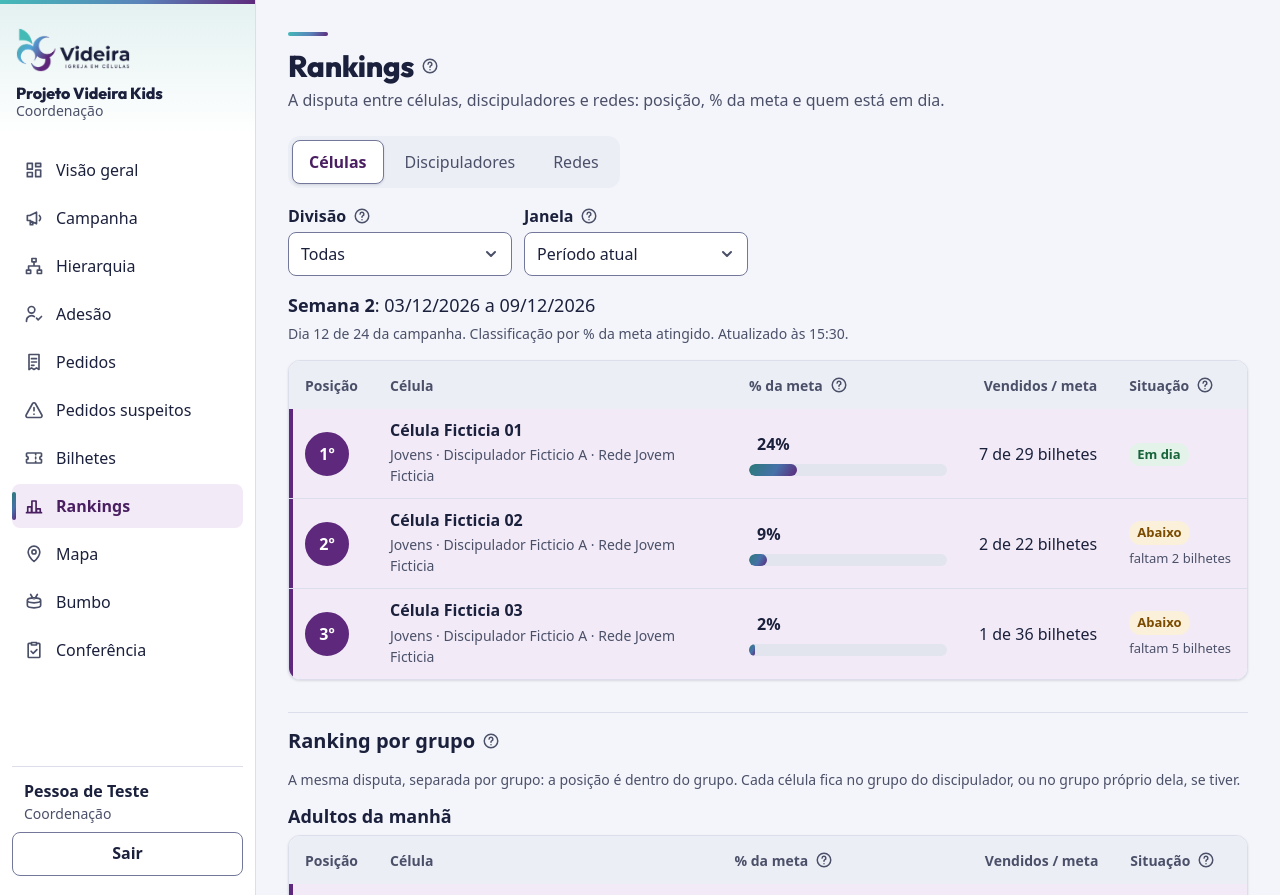
Test case: RIFA-084: o ranking por grupo nos Rankings › segue a aba e a janela: discipuladores e campanha pedem de novo; na aba Redes, a seção some
Click the tab "Discipuladores" at (460, 162), box x1=388 y1=140 x2=532 y2=184
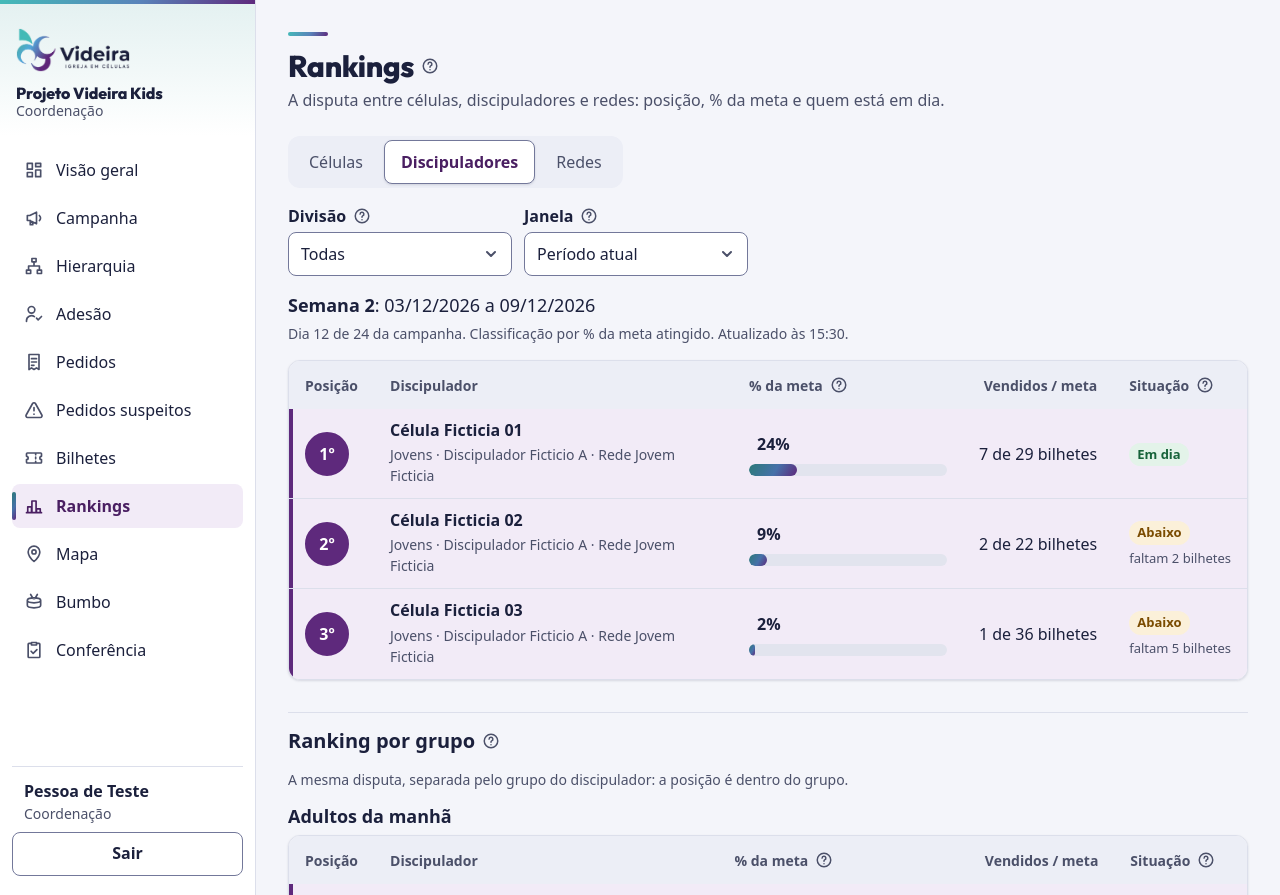
Select "Campanha" in the dropdown labelled "Janela" at (636, 254), box x1=524 y1=232 x2=748 y2=276
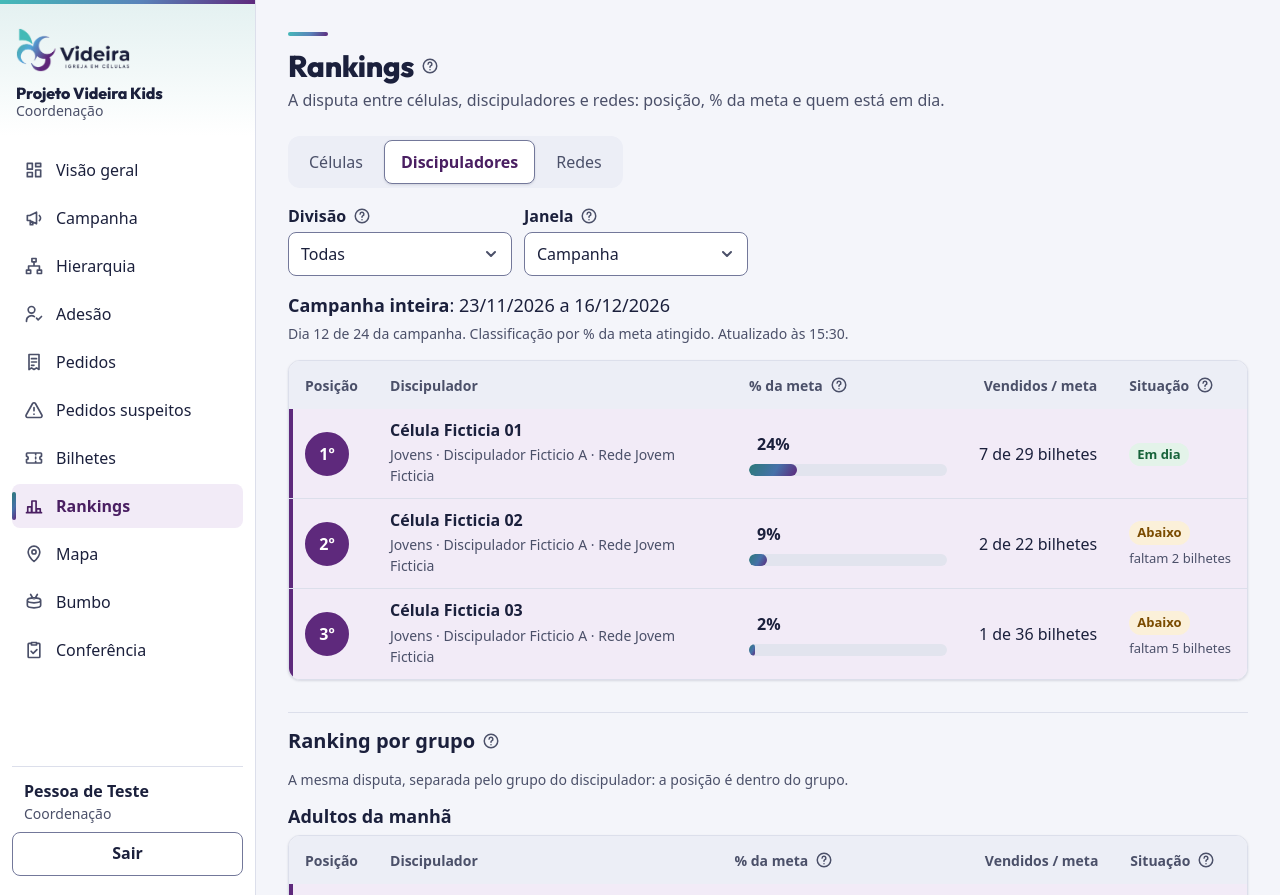
Click the tab "Redes" at (579, 162), box x1=539 y1=140 x2=619 y2=184
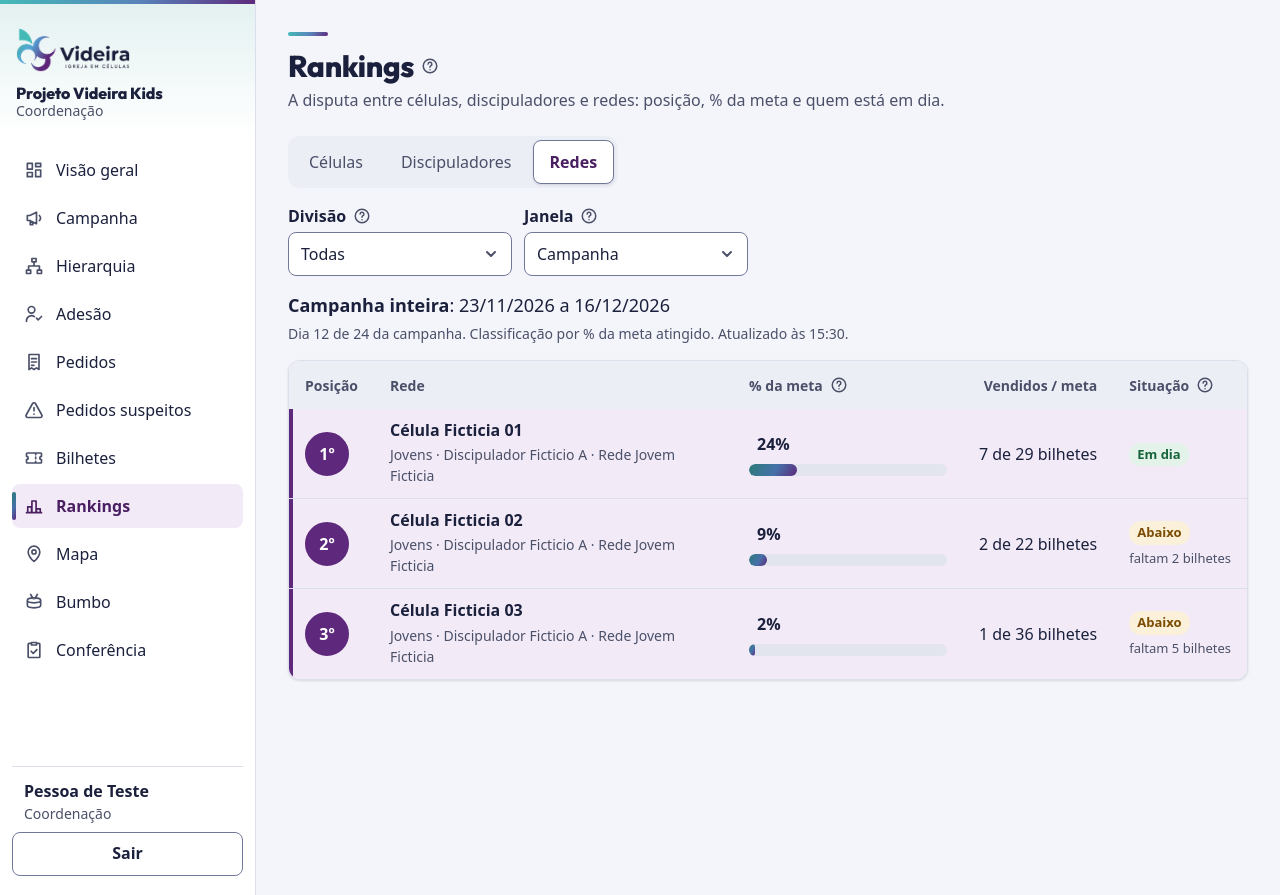
Result: the table is shown at x1=289 y1=361 x2=1247 y2=679
Result: the heading "Ranking por grupo" is gone
